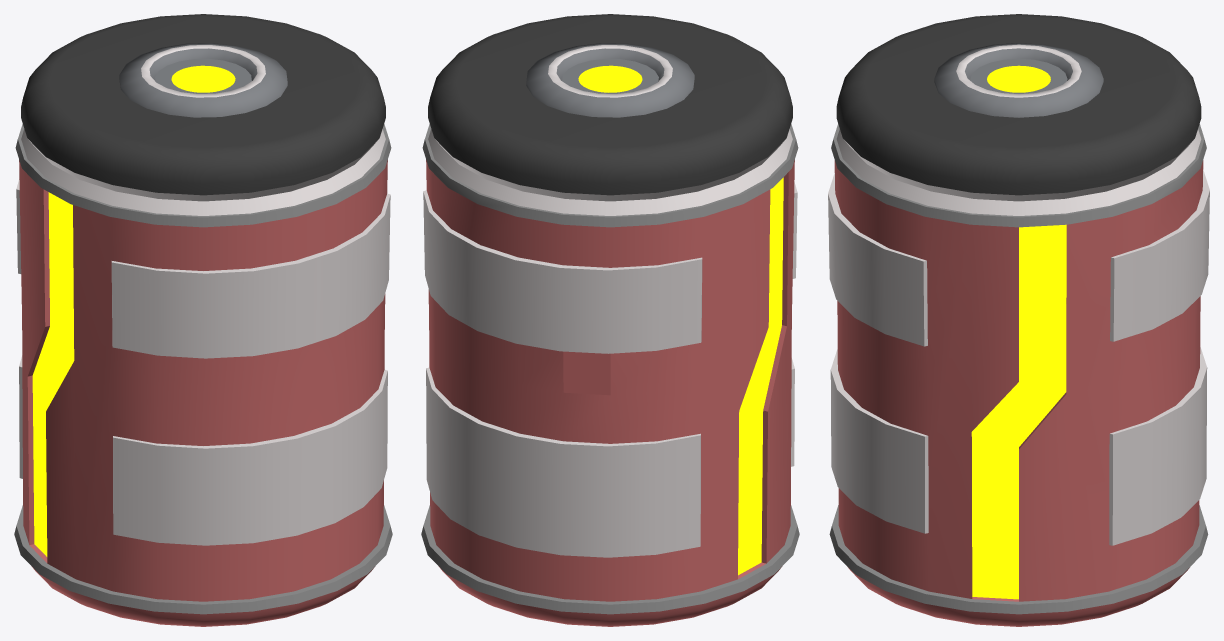
The model's file is prop_barrel_octogen.fbx.
3 views of the same model, side by side, from view 1: azimuth 30°, elevation 25°; view 2: azimuth 150°, elevation 25°; view 3: azimuth 270°, elevation 25° (orthographic).
Visible parts, largest first — view 1: body, cap; view 2: body, cap; view 3: body, cap.
Boxes of the visible parts, bbox=[...] form: body: bbox=[14, 14, 392, 626]; cap: bbox=[119, 43, 287, 117]; body: bbox=[421, 14, 799, 626]; cap: bbox=[526, 43, 694, 117]; body: bbox=[828, 14, 1209, 626]; cap: bbox=[934, 43, 1103, 117].
Bounding box in the file's own units: 127 × 180 × 128.
